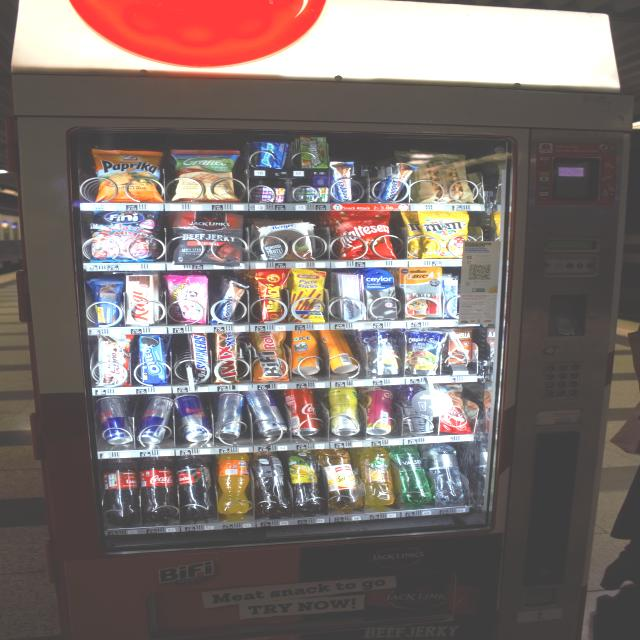7days_croissantschoko_packung_80_1_0000000000003: (440, 383, 470, 432)
airwaves_menthoneucalyptus_riegel_14_1_50173167: (254, 140, 284, 170)
berger____: (253, 218, 321, 263)
bifi_roll__50__4251097402635: (252, 330, 290, 386)
bueno___43__4008400320328: (87, 331, 138, 389)
c-swiss_dosenabisicetea__33__9120025930135: (282, 326, 330, 378)
caferoyal_classicmacchiato__33__7617014164487: (402, 386, 437, 435)
caprisun_multivitamin__20__4000177605004: (400, 327, 448, 377), (358, 330, 407, 378)
coke__flasche_50__54491472: (280, 388, 328, 438), (140, 457, 174, 521), (104, 459, 140, 519)
coke_zero_flasche_50__5449000131836: (180, 456, 212, 519)
comella_schokodrink__33__7613100037253: (440, 327, 491, 378)
fanta___50__40822938: (211, 449, 256, 515)
fini_galaxymix_packung_100_1_8410525150364: (92, 212, 156, 262)
fini_jellykisses_packung_80_1_8410525116704: (160, 272, 208, 321)
fuse_lemon__50__5449000235947: (282, 450, 330, 513)
fuse_lemon_dose_33__5449000235947: (332, 389, 361, 437)
jacklinks_beefjerkyorginal__25__4047751730219: (168, 212, 248, 264)
jlbrichard_gauffre__90__5410495002000: (412, 152, 472, 198)
kagi___50__7610046000259: (122, 272, 164, 328)
knoppers_riegel____4035800488808: (212, 276, 250, 324), (374, 160, 412, 204), (327, 158, 362, 201)
lorenz_nicnacs__40__4018077798818: (250, 266, 292, 321)
malburner_partysticks__40__7610200279682: (289, 267, 331, 324)
maltesers___100__5000159023061: (330, 208, 401, 259)
mnms_gelb__45__40111445: (412, 207, 475, 260)
oreo___66__84100733: (133, 332, 172, 386)
powerbar_proteinplusschoko__55__4029679520028: (90, 278, 125, 326)
ramseier_schorle__50__7610057012456: (322, 446, 368, 516)
redbull___33__90162909: (88, 394, 134, 444), (171, 397, 215, 444), (138, 396, 176, 444)
skittles_sour_riegel_51_1_: (296, 133, 328, 166)
snickers___50__5000159461122: (184, 330, 218, 384)
stimorol_spearmint_riegel_14_1_: (294, 183, 328, 206)
stimorol_wildcherry_riegel_14_1_57060330: (251, 187, 286, 202)
tiki_himbeerbrause_dose_33_1_: (366, 386, 393, 430)
twix___50__5000159459228: (205, 325, 245, 387)
valser_classic__50__76404160: (380, 440, 435, 505)
valser_still__50__7610335002575: (431, 442, 461, 504)
volvic_pinapple__50__305764335648: (357, 443, 397, 510)
zweifel_graneochilli__100__7610095184009: (170, 146, 241, 202)
zweifel_paprika__90__7610095013002: (82, 144, 172, 208)
